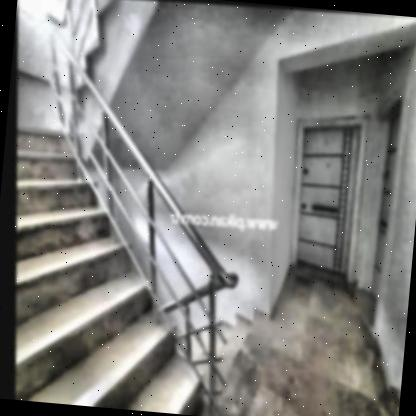stair: (0, 123, 213, 412)
